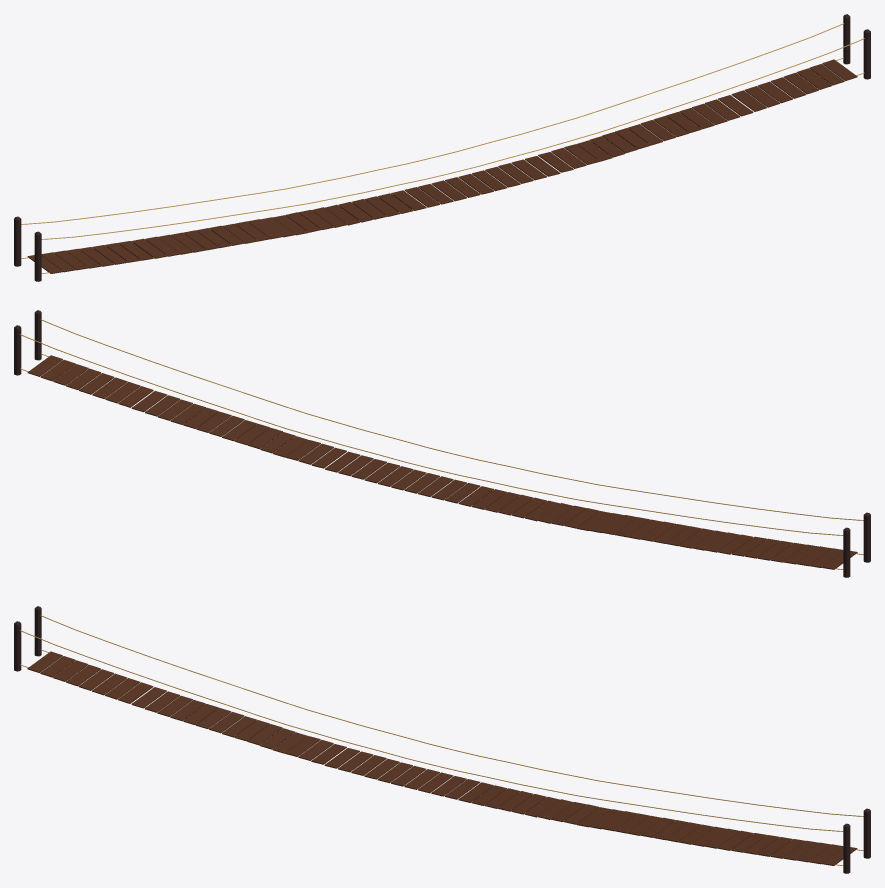
File: PonteSuspensa.fbx
3 views of the same model, one above another, from view 1: azimuth 30°, elevation 25°; view 2: azimuth 150°, elevation 25°; view 3: azimuth 330°, elevation 25° (orthographic).
Visible parts, largest first — view 1: Cube; view 2: Cube; view 3: Cube.
Part boxes in pixels (left/top/right/bottom): Cube: left=14, top=14, right=870, bottom=281; Cube: left=14, top=310, right=870, bottom=577; Cube: left=14, top=606, right=870, bottom=873.
Size of the model in its own units: 30255 by 2396 by 1490.
Materials: 2 (1 with a texture image).
